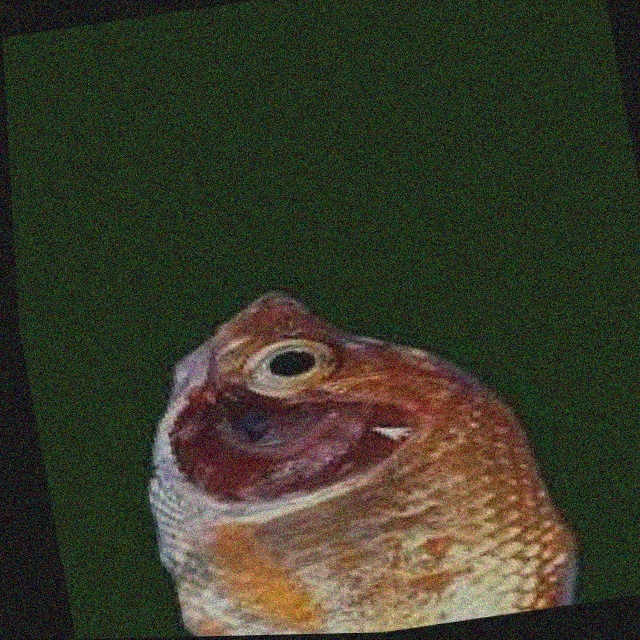Gill Disease: (144, 298, 581, 633)
